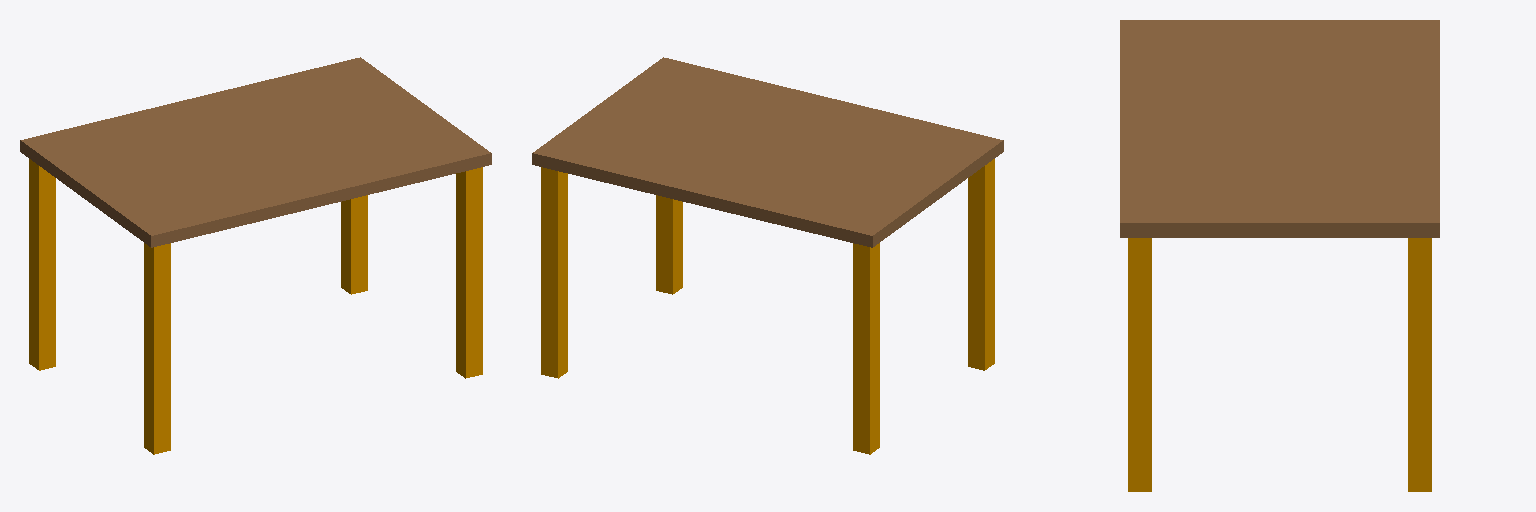
URDF robot description (table):
<?xml version="1.0"?>
<robot name="table">
  <link name="table">
    <visual>
      <origin xyz="0 0 0.73"/>
      <geometry><box size="1.2 0.8 0.04"/></geometry>
      <material name="wood"><color rgba="0.6 0.45 0.3 1"/></material>
    </visual>
    <collision>
      <origin xyz="0 0 0.73"/>
      <geometry><box size="1.2 0.8 0.04"/></geometry>
    </collision>
    <visual>
      <origin xyz="0.55 0.35 0.355"/>
      <geometry><box size="0.06 0.06 0.71"/></geometry>
    </visual>
    <visual>
      <origin xyz="-0.55 0.35 0.355"/>
      <geometry><box size="0.06 0.06 0.71"/></geometry>
    </visual>
    <visual>
      <origin xyz="0.55 -0.35 0.355"/>
      <geometry><box size="0.06 0.06 0.71"/></geometry>
    </visual>
    <visual>
      <origin xyz="-0.55 -0.35 0.355"/>
      <geometry><box size="0.06 0.06 0.71"/></geometry>
    </visual>
    <collision>
      <origin xyz="0.55 0.35 0.355"/>
      <geometry><box size="0.06 0.06 0.71"/></geometry>
    </collision>
    <collision>
      <origin xyz="-0.55 0.35 0.355"/>
      <geometry><box size="0.06 0.06 0.71"/></geometry>
    </collision>
    <collision>
      <origin xyz="0.55 -0.35 0.355"/>
      <geometry><box size="0.06 0.06 0.71"/></geometry>
    </collision>
    <collision>
      <origin xyz="-0.55 -0.35 0.355"/>
      <geometry><box size="0.06 0.06 0.71"/></geometry>
    </collision>
    <inertial>
      <mass value="20"/>
      <inertia ixx="1.5" ixy="0" ixz="0" iyy="2.5" iyz="0" izz="3.5"/>
    </inertial>
  </link>
</robot>

--- Facts derived from the render (not from the file) ---
The picture shows the robot from 3 angles, left to right: view 1: azimuth 30°, elevation 25°; view 2: azimuth 150°, elevation 25°; view 3: azimuth 270°, elevation 25°; orthographic projection.
Model table with 1 links and 0 joints (none), rooted at table, posed every joint at zero.
Visible links, largest first — view 1: table; view 2: table; view 3: table.
Boxes of the visible links, box(x1,y1,x2,y2) form: table: box(20, 57, 491, 454); table: box(532, 57, 1003, 454); table: box(1120, 20, 1439, 491).
Bounding box of the posed robot: 1.2 × 0.8 × 0.75 m (x, y, z).
Geometry: primitives only (box / cylinder / sphere), no mesh files.
